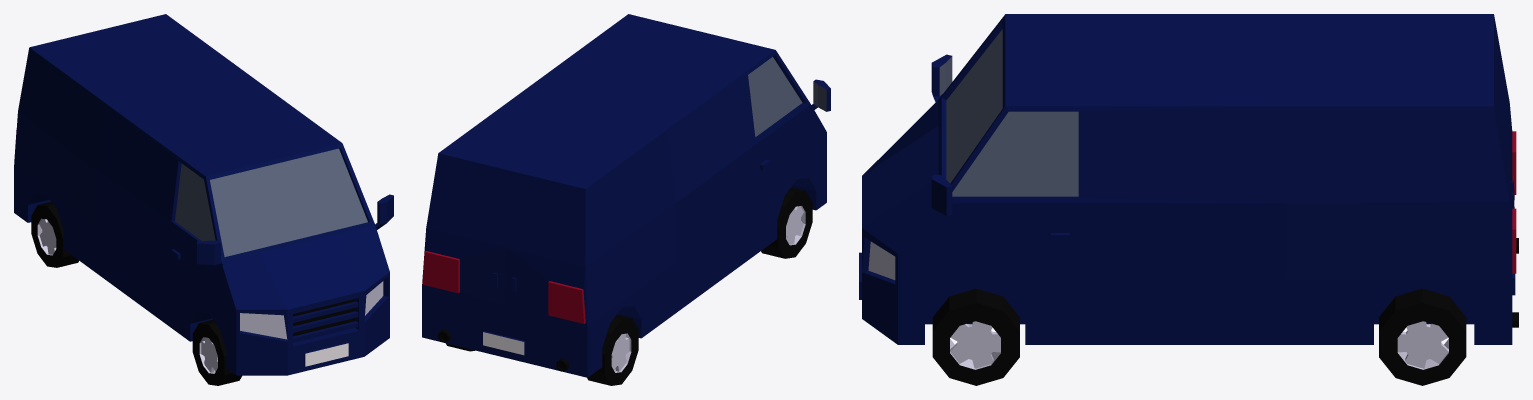
File: Van.glb
The picture shows the model from 3 angles, left to right: view 1: azimuth 30°, elevation 25°; view 2: azimuth 150°, elevation 25°; view 3: azimuth 270°, elevation 25°; orthographic projection. The views are drawn at different scales.
Visible parts, largest first — view 1: Van_body dark blue_0, Van_windows_0, Van wheel front right_tires_0, Van wheel rear right_tires_0, Van_headlights_0, Van_body black_0, Van_body white_0, Van wheel rear right_wheels_0, Van wheel front right_wheels_0; view 2: Van_body dark blue_0, Van_windows_0, Van_rear lights_0, Van wheel rear right_tires_0, Van wheel front right_tires_0, Van wheel rear right_wheels_0, Van wheel front right_wheels_0, Van_body white_0; view 3: Van_body dark blue_0, Van_windows_0, Van wheel front left_tires_0, Van wheel rear left_tires_0, Van wheel rear left_wheels_0, Van wheel front left_wheels_0, Van_headlights_0, Van_rear lights_0.
Boxes of the visible parts, bbox=[...] form: Van_body dark blue_0: bbox=[14, 14, 393, 375]; Van_windows_0: bbox=[175, 148, 367, 256]; Van wheel front right_tires_0: bbox=[192, 319, 241, 385]; Van wheel rear right_tires_0: bbox=[31, 201, 78, 267]; Van_headlights_0: bbox=[240, 281, 383, 339]; Van_body black_0: bbox=[293, 299, 354, 336]; Van_body white_0: bbox=[305, 343, 348, 366]; Van wheel rear right_wheels_0: bbox=[37, 218, 56, 255]; Van wheel front right_wheels_0: bbox=[199, 337, 217, 373]; Van_body dark blue_0: bbox=[422, 14, 830, 377]; Van_windows_0: bbox=[748, 57, 826, 136]; Van_rear lights_0: bbox=[422, 251, 585, 323]; Van wheel rear right_tires_0: bbox=[587, 314, 638, 385]; Van wheel front right_tires_0: bbox=[761, 187, 812, 258]; Van wheel rear right_wheels_0: bbox=[611, 333, 631, 372]; Van wheel front right_wheels_0: bbox=[786, 206, 805, 245]; Van_body white_0: bbox=[483, 332, 524, 355]; Van_body dark blue_0: bbox=[859, 14, 1515, 344]; Van_windows_0: bbox=[939, 29, 1078, 196]; Van wheel front left_tires_0: bbox=[932, 288, 1019, 385]; Van wheel rear left_tires_0: bbox=[1379, 288, 1466, 385]; Van wheel rear left_wheels_0: bbox=[1397, 321, 1448, 369]; Van wheel front left_wheels_0: bbox=[950, 321, 1000, 369]; Van_headlights_0: bbox=[868, 241, 895, 279]; Van_rear lights_0: bbox=[1512, 131, 1516, 273].
Size of the model in its own units: 2.81 by 2.71 by 5.91.
